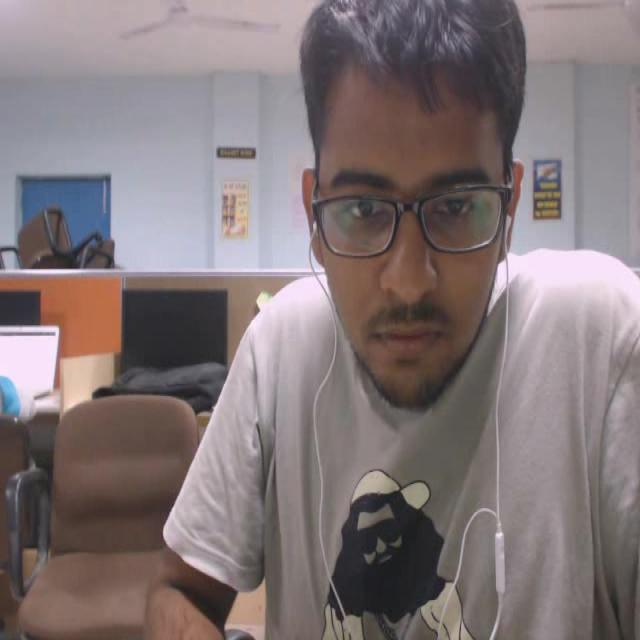Engaged: (278, 0, 560, 428)
